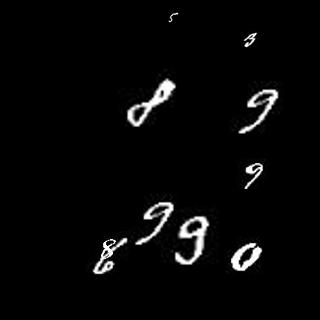eight: (124, 79, 176, 130), (100, 237, 115, 259)
five: (167, 9, 180, 26)
nine: (172, 214, 216, 265), (237, 87, 279, 137), (136, 195, 176, 247), (241, 162, 266, 193)
six: (93, 239, 131, 274)
three: (239, 32, 264, 51)
zero: (222, 238, 266, 272)
